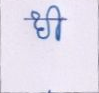i_matra: (49, 5, 64, 41)
